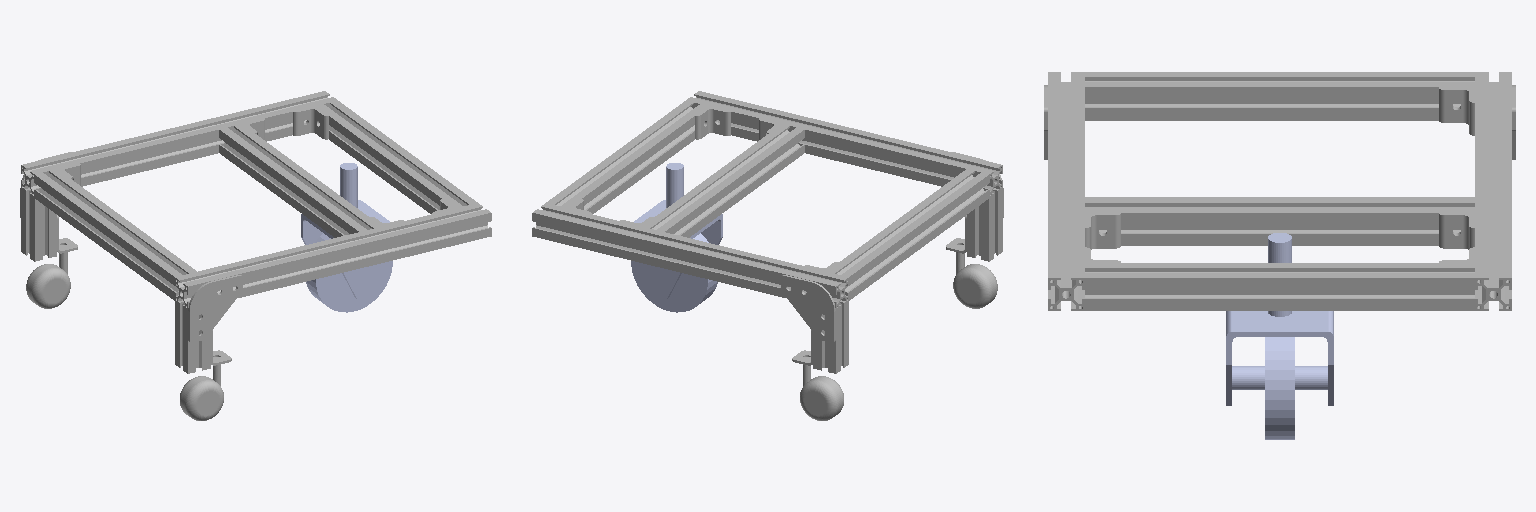
URDF robot description (test_rover_V1):
<?xml version="1.0" encoding="utf-8"?>
<!-- This URDF was automatically created by SolidWorks to URDF Exporter! Originally created by [author] ([email redacted]) 
     Commit Version: 1.6.0-1-g15f4949  Build Version: 1.6.7594.29634
     For more information, please see http://wiki.ros.org/sw_urdf_exporter -->
<robot
  name="test_rover_V1">
  <link
    name="base_link">
    <inertial>
      <origin
        xyz="-0.015921 0.00056506 0.052818"
        rpy="0 0 0" />
      <mass
        value="2.059" />
      <inertia
        ixx="0.0083721"
        ixy="-3.336E-07"
        ixz="-4.8663E-06"
        iyy="0.010822"
        iyz="-7.9312E-11"
        izz="0.018653" />
    </inertial>
    <visual>
      <origin
        xyz="0 0 0"
        rpy="0 0 0" />
      <geometry>
        <mesh
          filename="package://test_rover_V1/meshes/base_link.STL" />
      </geometry>
      <material
        name="">
        <color
          rgba="0.75294 0.75294 0.75294 1" />
      </material>
    </visual>
    <collision>
      <origin
        xyz="0 0 0"
        rpy="0 0 0" />
      <geometry>
        <mesh
          filename="package://test_rover_V1/meshes/base_link.STL" />
      </geometry>
    </collision>
  </link>
  <link
    name="steer_body_1">
    <inertial>
      <origin
        xyz="6.9389E-18 -6.9389E-18 -0.087123"
        rpy="0 0 0" />
      <mass
        value="0.12388" />
      <inertia
        ixx="0.00025982"
        ixy="1.5851E-20"
        ixz="7.5308E-21"
        iyy="0.00018208"
        iyz="4.4695E-20"
        izz="0.00014529" />
    </inertial>
    <visual>
      <origin
        xyz="0 0 0"
        rpy="0 0 0" />
      <geometry>
        <mesh
          filename="package://test_rover_V1/meshes/steer_body_1.STL" />
      </geometry>
      <material
        name="">
        <color
          rgba="0.79216 0.81961 0.93333 1" />
      </material>
    </visual>
    <collision>
      <origin
        xyz="0 0 0"
        rpy="0 0 0" />
      <geometry>
        <mesh
          filename="package://test_rover_V1/meshes/steer_body_1.STL" />
      </geometry>
    </collision>
  </link>
  <joint
    name="steer_joint_1"
    type="continuous">
    <origin
      xyz="0.12165 0 0.08"
      rpy="0 0 0" />
    <parent
      link="base_link" />
    <child
      link="steer_body_1" />
    <axis
      xyz="0 0 1" />
  </joint>
  <transmission name="steer_joint_1_transmission">
	  <type>transmission_interface/SimpleTransmission</type>
	  <actuator name="motor1">
		  <mechanicalReduction>0.2</mechanicalReduction>
	  </actuator>
	  <joint name="steer_joint_1">
		  <hardwareInterface>hardware_interface/PositionJointInterface</hardwareInterface>
	  </joint>
</transmission>
  <link
    name="wheel_1">
    <inertial>
      <origin
        xyz="0 -6.9388E-18 0"
        rpy="0 0 0" />
      <mass
        value="0.19795" />
      <inertia
        ixx="0.00026531"
        ixy="-1.5846E-20"
        ixz="-2.0037E-20"
        iyy="0.0001433"
        iyz="1.3553E-20"
        izz="0.0001433" />
    </inertial>
    <visual>
      <origin
        xyz="0 0 0"
        rpy="0 0 0" />
      <geometry>
        <mesh
          filename="package://test_rover_V1/meshes/wheel_1.STL" />
      </geometry>
      <material
        name="">
        <color
          rgba="0.79216 0.81961 0.93333 1" />
      </material>
    </visual>
    <collision>
      <origin
        xyz="0 0 0"
        rpy="0 0 0" />
      <geometry>
        <mesh
          filename="package://test_rover_V1/meshes/wheel_1.STL" />
      </geometry>
    </collision>
  </link>
  <joint
    name="wheel_joint_1"
    type="continuous">
    <origin
      xyz="0 0 -0.127"
      rpy="1.6642 0 -1.5708" />
    <parent
      link="steer_body_1" />
    <child
      link="wheel_1" />
    <axis
      xyz="1 0 0" />
  </joint>
</robot>

--- Render facts (derived) ---
The picture shows the robot from 3 angles, left to right: view 1: azimuth 30°, elevation 25°; view 2: azimuth 150°, elevation 25°; view 3: azimuth 270°, elevation 25°; orthographic projection.
Model test_rover_V1 with 3 links and 2 joints (2 continuous), rooted at base_link, posed every joint at zero.
Visible links, largest first — view 1: base_link, steer_body_1, wheel_1; view 2: base_link, steer_body_1, wheel_1; view 3: base_link, steer_body_1, wheel_1.
Boxes of the visible links, x1,y1,x2,y2 form: base_link: (20,91,491,420); steer_body_1: (301,163,391,298); wheel_1: (306,233,392,312); base_link: (532,91,1003,420); steer_body_1: (632,163,722,298); wheel_1: (631,233,717,312); base_link: (1044,72,1515,310); steer_body_1: (1226,233,1333,405); wheel_1: (1265,337,1294,439).
Size in the robot's own frame: 0.4 by 0.386 by 0.1782 metres.
Meshes: 3 distinct files referenced, 3 mesh visuals loaded (3 binary STL).